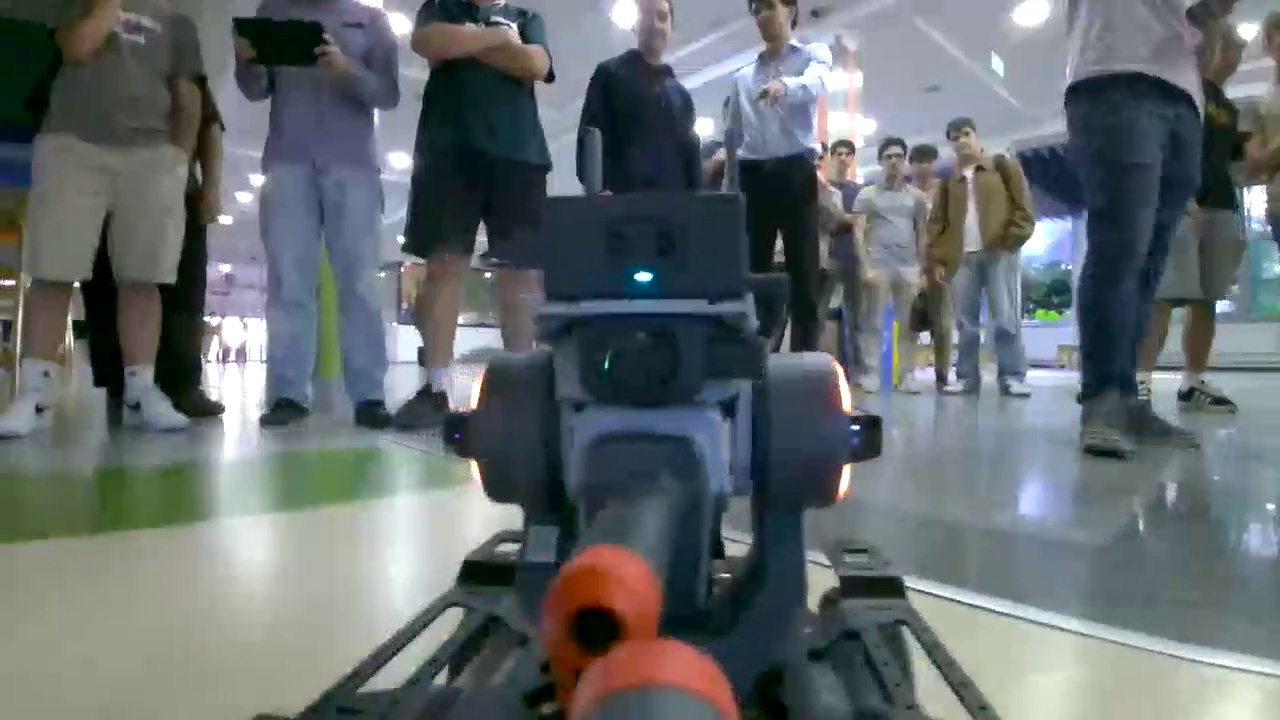robot: (298, 177, 1016, 720)
